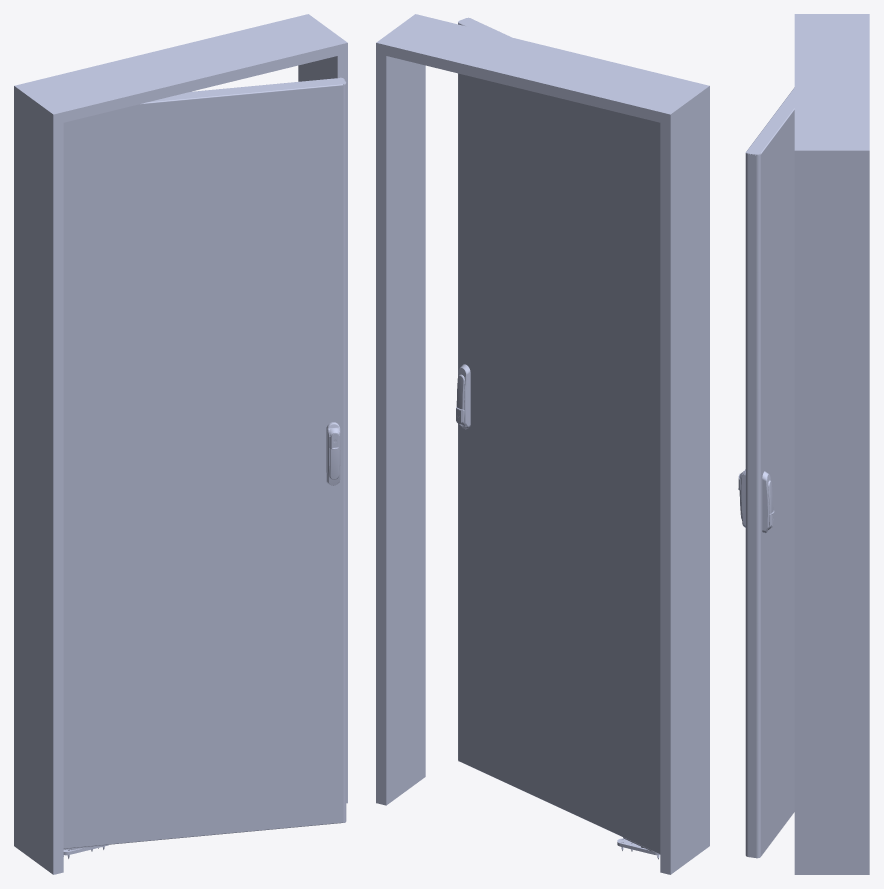
File: step-7.glb
3 renders of one model, left to right at view 1: azimuth 30°, elevation 25°; view 2: azimuth 150°, elevation 25°; view 3: azimuth 270°, elevation 25°, orthographic. The views are drawn at different scales.
Parts seen in each view (by area): view 1: door2-1, door frame-1; view 2: door2-1, door frame-1; view 3: door frame-1, door2-1.
Boxes of the visible parts, box(x1,y1,x2,y2) form: door2-1: box(63, 77, 346, 848); door frame-1: box(14, 14, 347, 874); door2-1: box(456, 17, 660, 853); door frame-1: box(376, 14, 709, 874); door frame-1: box(794, 14, 869, 874); door2-1: box(738, 87, 794, 858).
Bounding box in the file's own units: 0.865 × 2.15 × 0.3505.
